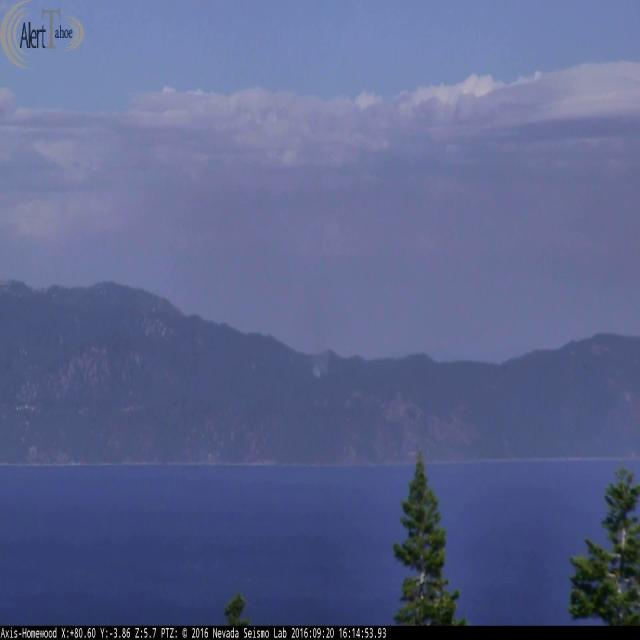smoke: (308, 335, 333, 384)
